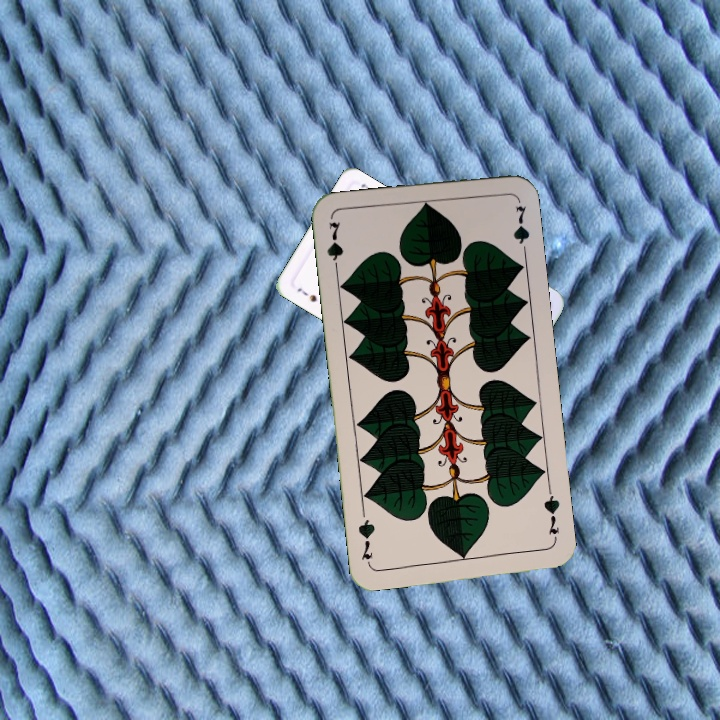G7: (540, 486, 563, 545), (323, 218, 346, 276)
S7: (293, 284, 319, 305)
